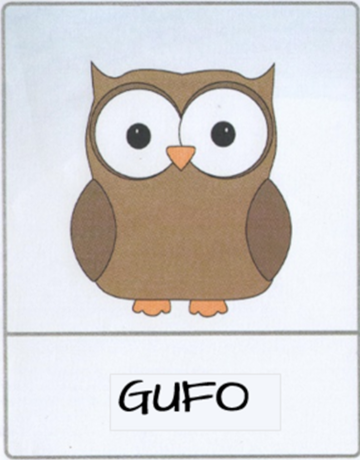gufo: (30, 17, 344, 448)
